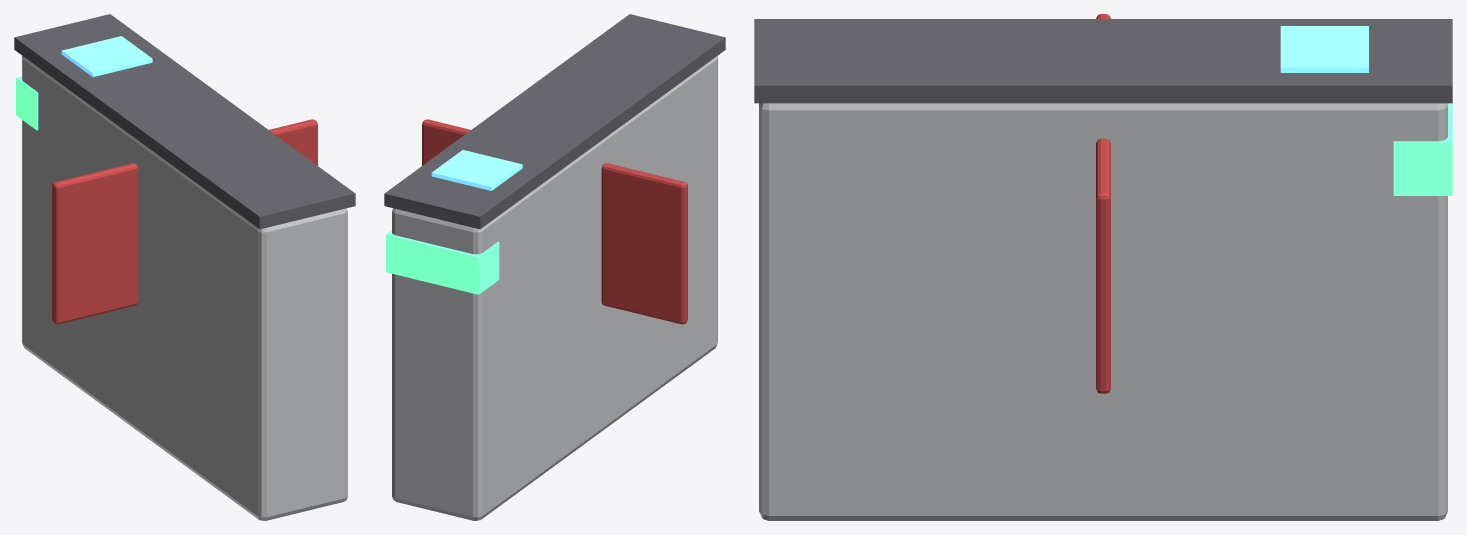
The model's file is afc_gate.gltf.
3 renders of one model, left to right at view 1: azimuth 30°, elevation 25°; view 2: azimuth 150°, elevation 25°; view 3: azimuth 270°, elevation 25°, orthographic. The views are drawn at different scales.
Parts seen in each view (by area): view 1: Cabinet, Top, Flap_L, Reader, Flap_R, ArrowPanel; view 2: Cabinet, Top, Flap_L, ArrowPanel, Reader, Flap_R; view 3: Cabinet, Top, Reader, Flap_R, ArrowPanel.
Boxes of the visible parts, bbox=[...] form: Cabinet: bbox=[22, 56, 347, 520]; Top: bbox=[14, 14, 355, 229]; Flap_L: bbox=[52, 163, 138, 324]; Reader: bbox=[61, 36, 152, 76]; Flap_R: bbox=[269, 119, 317, 165]; ArrowPanel: bbox=[16, 76, 38, 130]; Cabinet: bbox=[392, 56, 717, 520]; Top: bbox=[384, 14, 725, 229]; Flap_L: bbox=[601, 163, 687, 324]; ArrowPanel: bbox=[386, 230, 499, 294]; Reader: bbox=[431, 150, 522, 190]; Flap_R: bbox=[422, 119, 470, 165]; Cabinet: bbox=[759, 103, 1447, 520]; Top: bbox=[754, 19, 1452, 103]; Reader: bbox=[1280, 26, 1368, 72]; Flap_R: bbox=[1096, 138, 1110, 393]; ArrowPanel: bbox=[1393, 103, 1452, 195].
Size of the model in its own units: 0.88 by 1 by 1.42.
